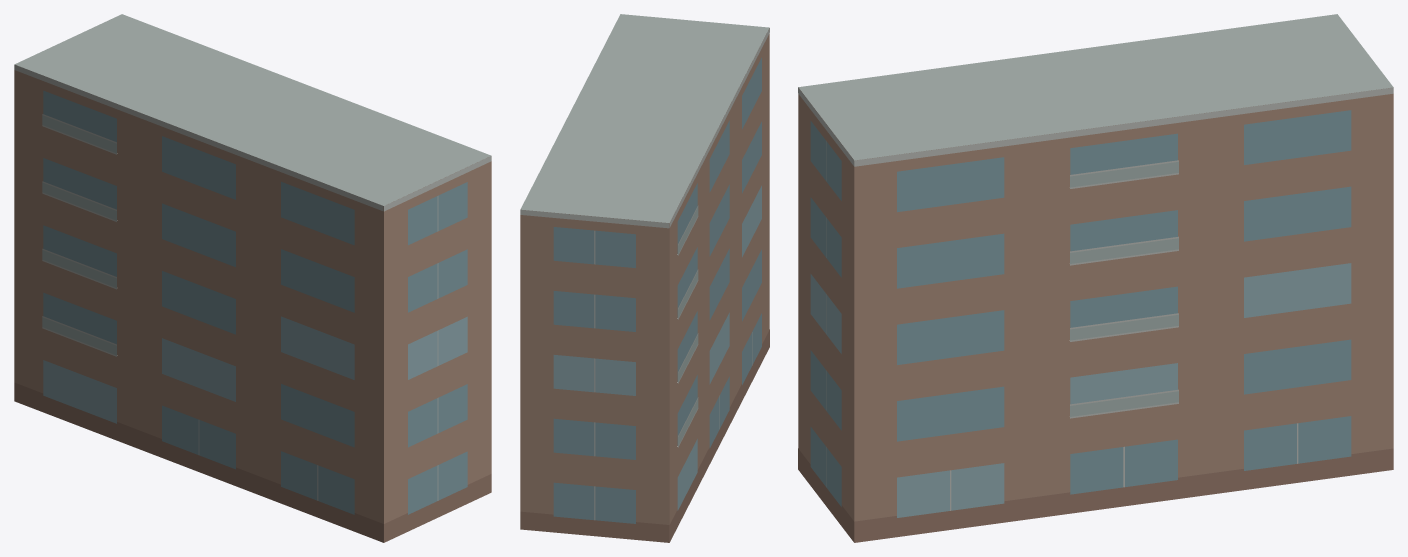
File: survey-upis-32612312.glb
3 views of the same model, side by side, from view 1: azimuth 30°, elevation 25°; view 2: azimuth 150°, elevation 25°; view 3: azimuth 270°, elevation 25° (orthographic). The views are drawn at different scales.
Visible parts, largest first — view 1: survey-upis-32612312.tmp; view 2: survey-upis-32612312.tmp; view 3: survey-upis-32612312.tmp.
Part boxes in pixels (x1,y1,x2,y2): survey-upis-32612312.tmp: [14, 14, 491, 542]; survey-upis-32612312.tmp: [520, 14, 769, 542]; survey-upis-32612312.tmp: [798, 14, 1393, 542].
Size of the model in its own units: 12.25 by 14.9 by 21.04.
